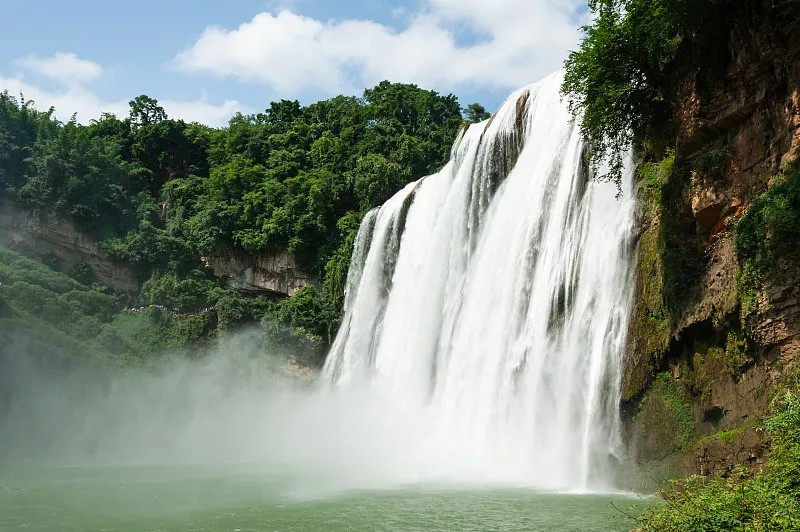Huangguoshu: (313, 69, 637, 493)
